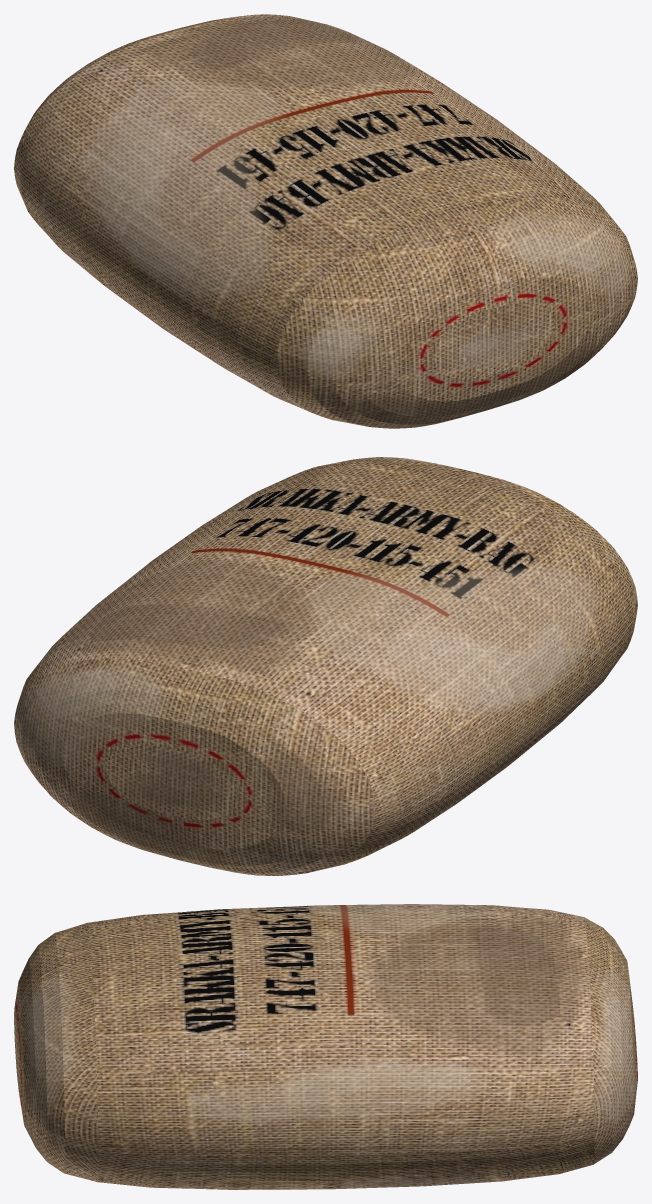
The model's file is sacDeSable01.fbx.
The picture shows the model from 3 angles, top to bottom: view 1: azimuth 30°, elevation 25°; view 2: azimuth 150°, elevation 25°; view 3: azimuth 270°, elevation 25°; orthographic projection. The views are drawn at different scales.
Visible parts, largest first — view 1: Cylinder.020; view 2: Cylinder.020; view 3: Cylinder.020.
Boxes of the visible parts, x1,y1,x2,y2 form: Cylinder.020: (14, 14, 637, 428); Cylinder.020: (14, 457, 637, 875); Cylinder.020: (14, 904, 637, 1189).
Bounding box in the file's own units: 42.38 × 21.79 × 59.59.
